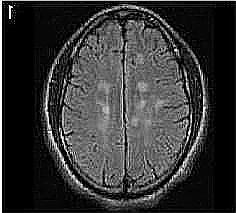Normal_Brain: (2, 1, 236, 213)
